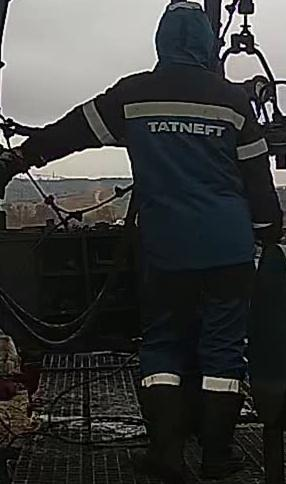gloves: (0, 141, 44, 188)
vest: (81, 65, 262, 271)
